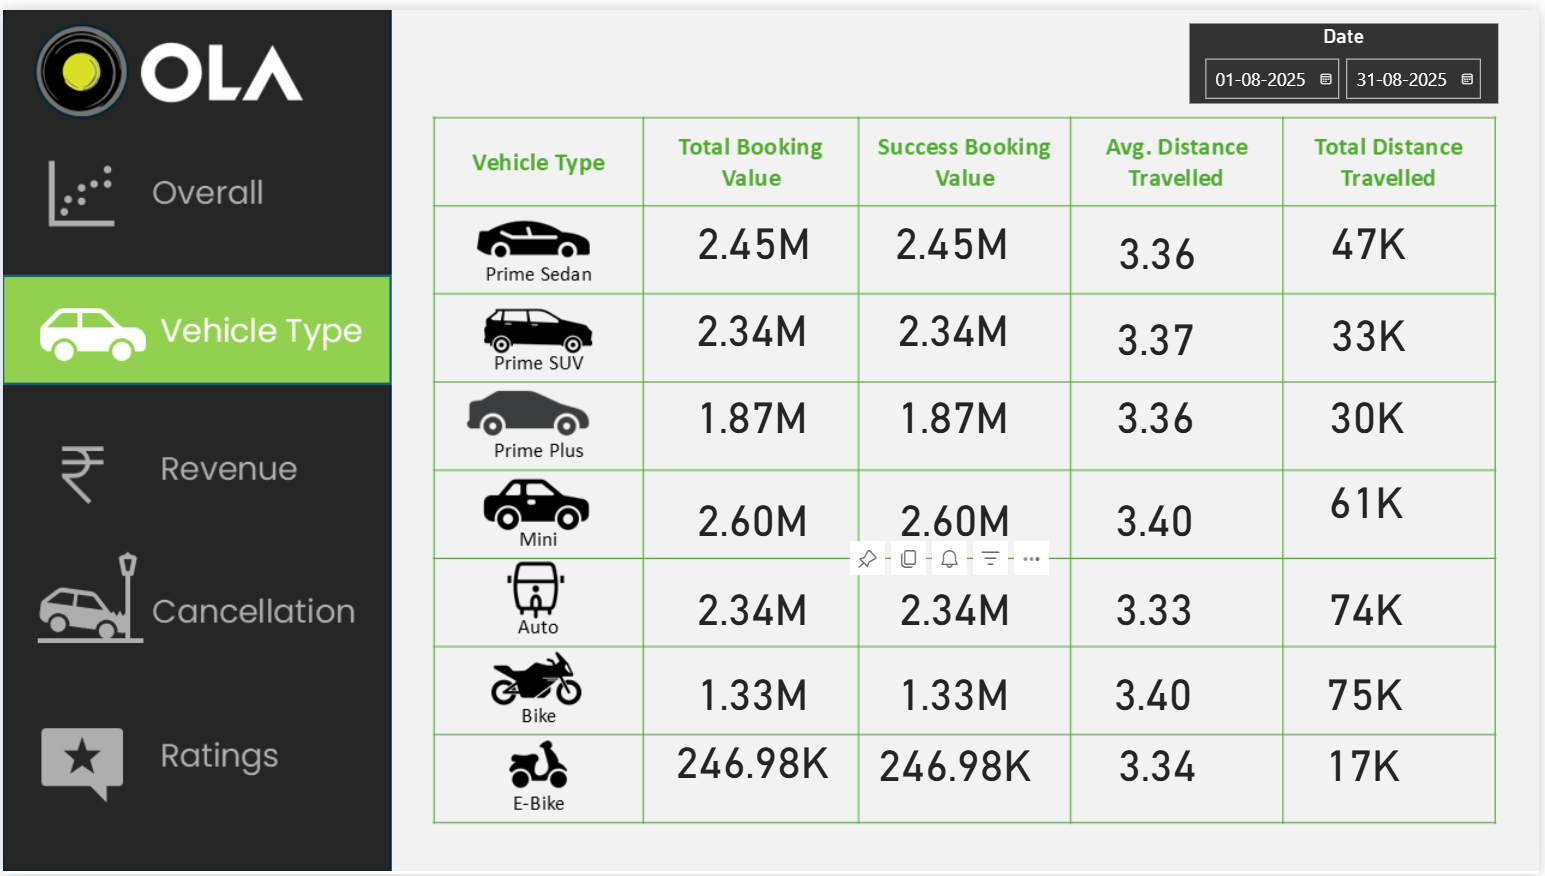

The page's visual inventory and layout, read from the dashboard file:
{"tool":"powerbi","page":{"name":"Vehicle Type","canvas":[1280,720],"ordinal":1},"visuals":[{"type":"actionButton","box":[0,224,320,96],"z":0},{"type":"actionButton","box":[0,336,320,96],"z":1000},{"type":"actionButton","box":[0,448,320,96],"z":2000},{"type":"actionButton","box":[0,576,320,96],"z":3000},{"type":"actionButton","box":[0,96,320,96],"z":4000},{"type":"card","fields":{"Values":["Sum(BookingData.Booking_Value)"]},"box":[545.5,166.9,160.4,49.2],"z":5000},{"type":"card","fields":{"Values":["Sum(BookingData.Booking_Value)"]},"box":[528,240,192,48],"z":6000},{"type":"card","fields":{"Values":["Sum(BookingData.Booking_Value)"]},"box":[528,312,192,48],"z":7000},{"type":"card","fields":{"Values":["Sum(BookingData.Booking_Value)"]},"box":[551.9,397.9,143.3,49.2],"z":8000},{"type":"card","fields":{"Values":["Sum(BookingData.Booking_Value)"]},"box":[543.4,472.8,160.4,47.1],"z":9000},{"type":"card","fields":{"Values":["Sum(BookingData.Booking_Value)"]},"box":[545.5,543.4,158.3,47.1],"z":10000},{"type":"card","fields":{"Values":["Sum(BookingData.Booking_Value)"]},"box":[543.4,599,160.4,49.2],"z":11000},{"type":"card","fields":{"Values":["Sum(BookingData.Booking_Value)"]},"box":[710.2,166.9,160.4,49.2],"z":12000},{"type":"card","fields":{"Values":["Sum(BookingData.Booking_Value)"]},"box":[695.3,239.6,192.5,47.1],"z":13000},{"type":"card","fields":{"Values":["Sum(BookingData.Booking_Value)"]},"box":[695.3,312.3,192.5,47.1],"z":14000},{"type":"card","fields":{"Values":["Sum(BookingData.Booking_Value)"]},"box":[720.9,397.9,143.3,49.2],"z":15000},{"type":"card","fields":{"Values":["Sum(BookingData.Booking_Value)"]},"box":[712.4,472.8,160.4,47.1],"z":16000},{"type":"card","fields":{"Values":["Sum(BookingData.Booking_Value)"]},"box":[712.4,543.4,158.3,47.1],"z":17000},{"type":"card","fields":{"Values":["Sum(BookingData.Booking_Value)"]},"box":[712.4,601.1,160.4,49.2],"z":18000},{"type":"card","fields":{"Values":["Avg(BookingData.Ride_Distance)"]},"box":[881.4,175.4,160.4,49.2],"z":19000},{"type":"card","fields":{"Values":["Avg(BookingData.Ride_Distance)"]},"box":[864.3,243.9,192.5,55.6],"z":20000},{"type":"card","fields":{"Values":["Avg(BookingData.Ride_Distance)"]},"box":[864.3,312.3,192.5,47.1],"z":21000},{"type":"card","fields":{"Values":["Avg(BookingData.Ride_Distance)"]},"box":[887.8,397.9,143.3,49.2],"z":22000},{"type":"card","fields":{"Values":["Avg(BookingData.Ride_Distance)"]},"box":[879.2,472.8,160.4,47.1],"z":23000},{"type":"card","fields":{"Values":["Avg(BookingData.Ride_Distance)"]},"box":[879.2,543.4,158.3,47.1],"z":24000},{"type":"card","fields":{"Values":["Avg(BookingData.Ride_Distance)"]},"box":[881.4,601.1,160.4,49.2],"z":25000},{"type":"card","fields":{"Values":["Sum(BookingData.Ride_Distance)"]},"box":[1048.3,166.9,177.6,49.2],"z":26000},{"type":"card","fields":{"Values":["Sum(BookingData.Ride_Distance)"]},"box":[1041.8,239.6,192.5,55.6],"z":27000},{"type":"card","fields":{"Values":["Sum(BookingData.Ride_Distance)"]},"box":[1039.7,312.3,192.5,47.1],"z":28000},{"type":"card","fields":{"Values":["Sum(BookingData.Ride_Distance)"]},"box":[1063.2,382.9,143.3,49.2],"z":29000},{"type":"card","fields":{"Values":["Sum(BookingData.Ride_Distance)"]},"box":[1054.7,472.8,160.4,47.1],"z":30000},{"type":"card","fields":{"Values":["Sum(BookingData.Ride_Distance)"]},"box":[1054.7,543.4,158.3,47.1],"z":31000},{"type":"card","fields":{"Values":["Sum(BookingData.Ride_Distance)"]},"box":[1052.5,601.1,160.4,49.2],"z":32000},{"type":"slicer","title":"Date","fields":{"Values":["BookingData.Date"]},"box":[988.8,11.7,257.2,66.8],"z":33000}]}

Visuals, with their boxes on the page's 1280x720 design canvas (x1, y1, x2, y2). These are canvas units, not pixel positions in the 1545x876 screenshot, which may show the page scaled, cropped or inside an application window:
actionButton: rect(0, 224, 320, 320)
actionButton: rect(0, 336, 320, 432)
actionButton: rect(0, 448, 320, 544)
actionButton: rect(0, 576, 320, 672)
actionButton: rect(0, 96, 320, 192)
card - Sum(BookingData.Booking_Value): rect(546, 167, 706, 216)
card - Sum(BookingData.Booking_Value): rect(528, 240, 720, 288)
card - Sum(BookingData.Booking_Value): rect(528, 312, 720, 360)
card - Sum(BookingData.Booking_Value): rect(552, 398, 695, 447)
card - Sum(BookingData.Booking_Value): rect(543, 473, 704, 520)
card - Sum(BookingData.Booking_Value): rect(546, 543, 704, 590)
card - Sum(BookingData.Booking_Value): rect(543, 599, 704, 648)
card - Sum(BookingData.Booking_Value): rect(710, 167, 871, 216)
card - Sum(BookingData.Booking_Value): rect(695, 240, 888, 287)
card - Sum(BookingData.Booking_Value): rect(695, 312, 888, 359)
card - Sum(BookingData.Booking_Value): rect(721, 398, 864, 447)
card - Sum(BookingData.Booking_Value): rect(712, 473, 873, 520)
card - Sum(BookingData.Booking_Value): rect(712, 543, 871, 590)
card - Sum(BookingData.Booking_Value): rect(712, 601, 873, 650)
card - Avg(BookingData.Ride_Distance): rect(881, 175, 1042, 225)
card - Avg(BookingData.Ride_Distance): rect(864, 244, 1057, 300)
card - Avg(BookingData.Ride_Distance): rect(864, 312, 1057, 359)
card - Avg(BookingData.Ride_Distance): rect(888, 398, 1031, 447)
card - Avg(BookingData.Ride_Distance): rect(879, 473, 1040, 520)
card - Avg(BookingData.Ride_Distance): rect(879, 543, 1038, 590)
card - Avg(BookingData.Ride_Distance): rect(881, 601, 1042, 650)
card - Sum(BookingData.Ride_Distance): rect(1048, 167, 1226, 216)
card - Sum(BookingData.Ride_Distance): rect(1042, 240, 1234, 295)
card - Sum(BookingData.Ride_Distance): rect(1040, 312, 1232, 359)
card - Sum(BookingData.Ride_Distance): rect(1063, 383, 1206, 432)
card - Sum(BookingData.Ride_Distance): rect(1055, 473, 1215, 520)
card - Sum(BookingData.Ride_Distance): rect(1055, 543, 1213, 590)
card - Sum(BookingData.Ride_Distance): rect(1052, 601, 1213, 650)
"Date" slicer: rect(989, 12, 1246, 78)
